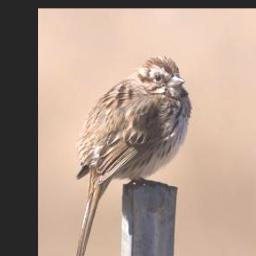Sparrow: (74, 54, 193, 256)
